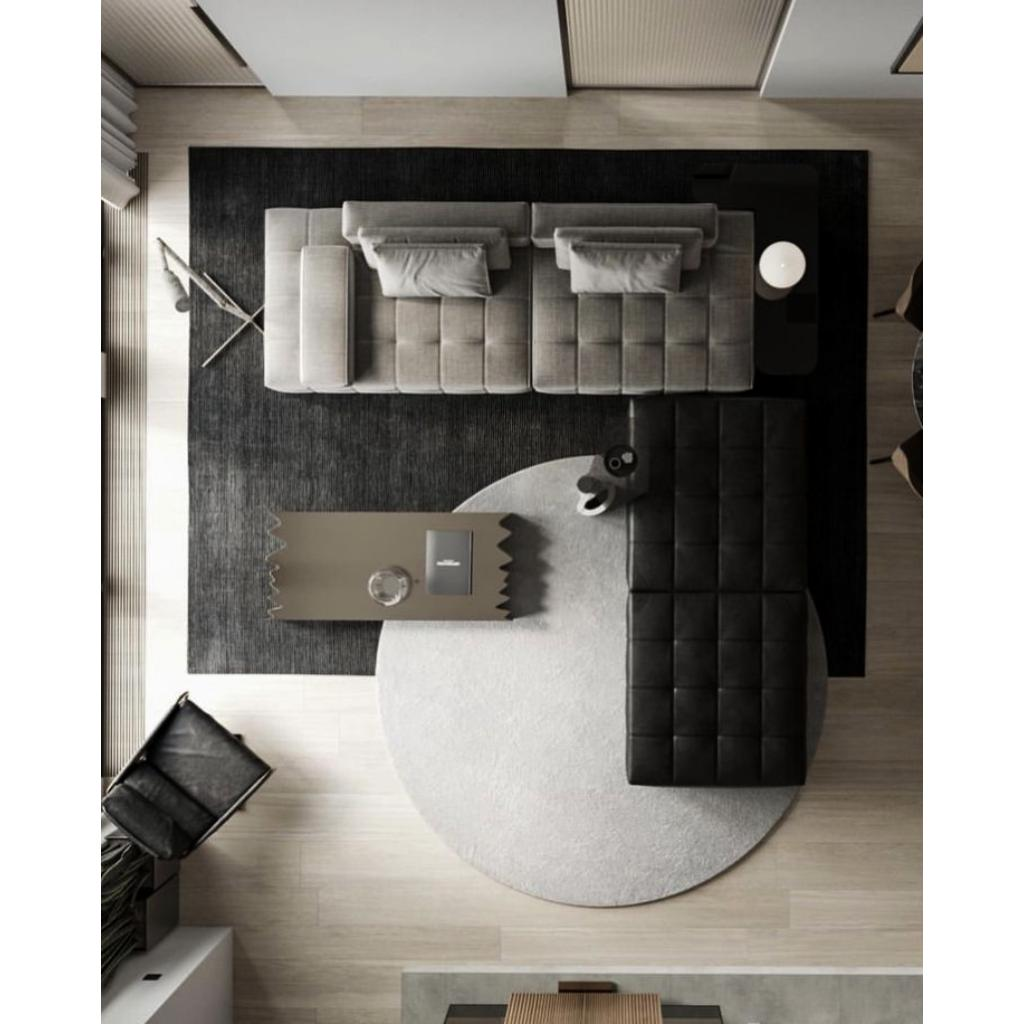TV stand: (440, 973, 722, 1021)
chair: (111, 697, 273, 861)
coffee table: (266, 508, 510, 618)
floor lamp: (188, 271, 254, 339)
floor plant: (120, 878, 178, 944)
ottoman: (628, 588, 802, 788), (630, 397, 804, 583)
rug: (188, 148, 866, 674), (374, 450, 828, 912)
side table: (763, 234, 811, 370)
sofa: (259, 196, 759, 394), (100, 476, 102, 478)
wardrobe: (124, 7, 780, 93)
window: (102, 102, 116, 684)
